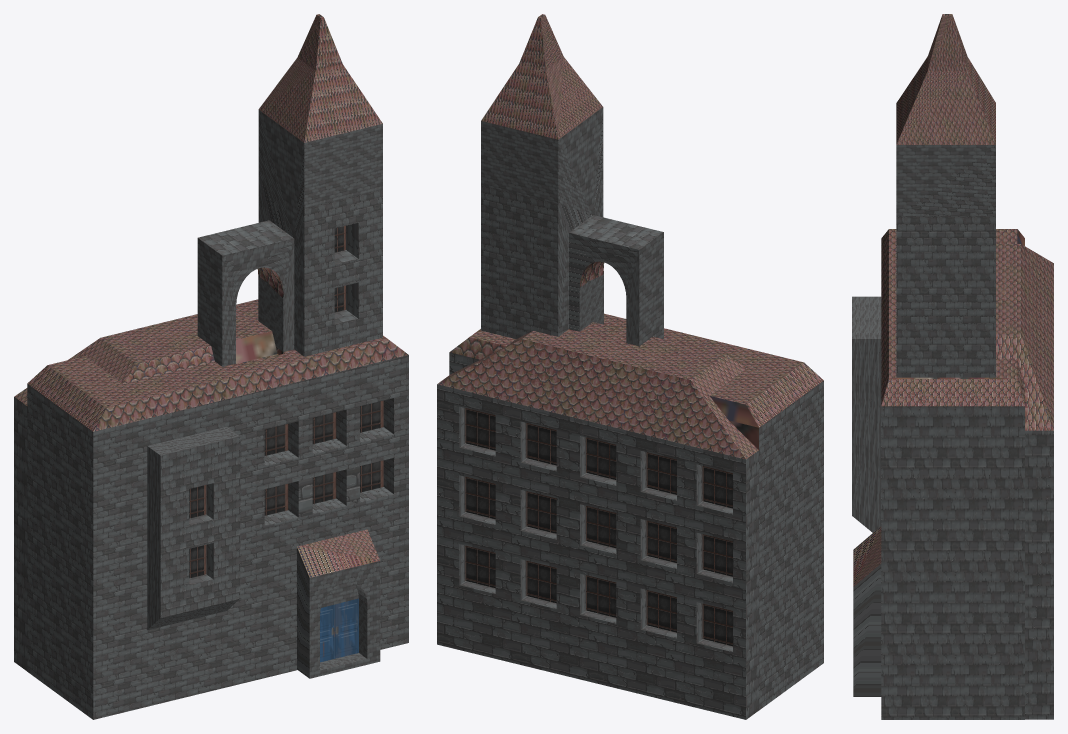
The model's file is SteepleTextured2.fbx.
3 renders of one model, left to right at view 1: azimuth 30°, elevation 25°; view 2: azimuth 150°, elevation 25°; view 3: azimuth 270°, elevation 25°, orthographic. The views are drawn at different scales.
Visible parts, largest first — view 1: Cube.002; view 2: Cube.002; view 3: Cube.002.
Part boxes in pixels (x1,y1,x2,y2): Cube.002: [14, 14, 408, 719]; Cube.002: [437, 14, 823, 719]; Cube.002: [852, 14, 1053, 719].
Bounding box in the file's own units: 557 × 1043 × 283.
